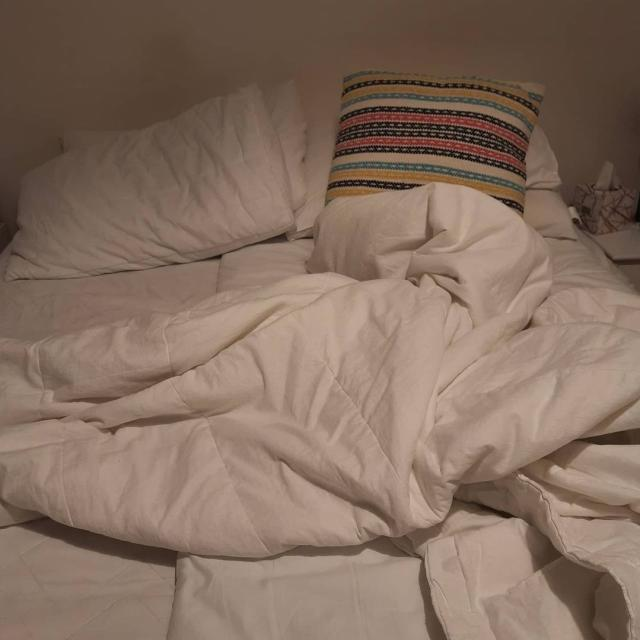bed: (6, 57, 640, 640)
